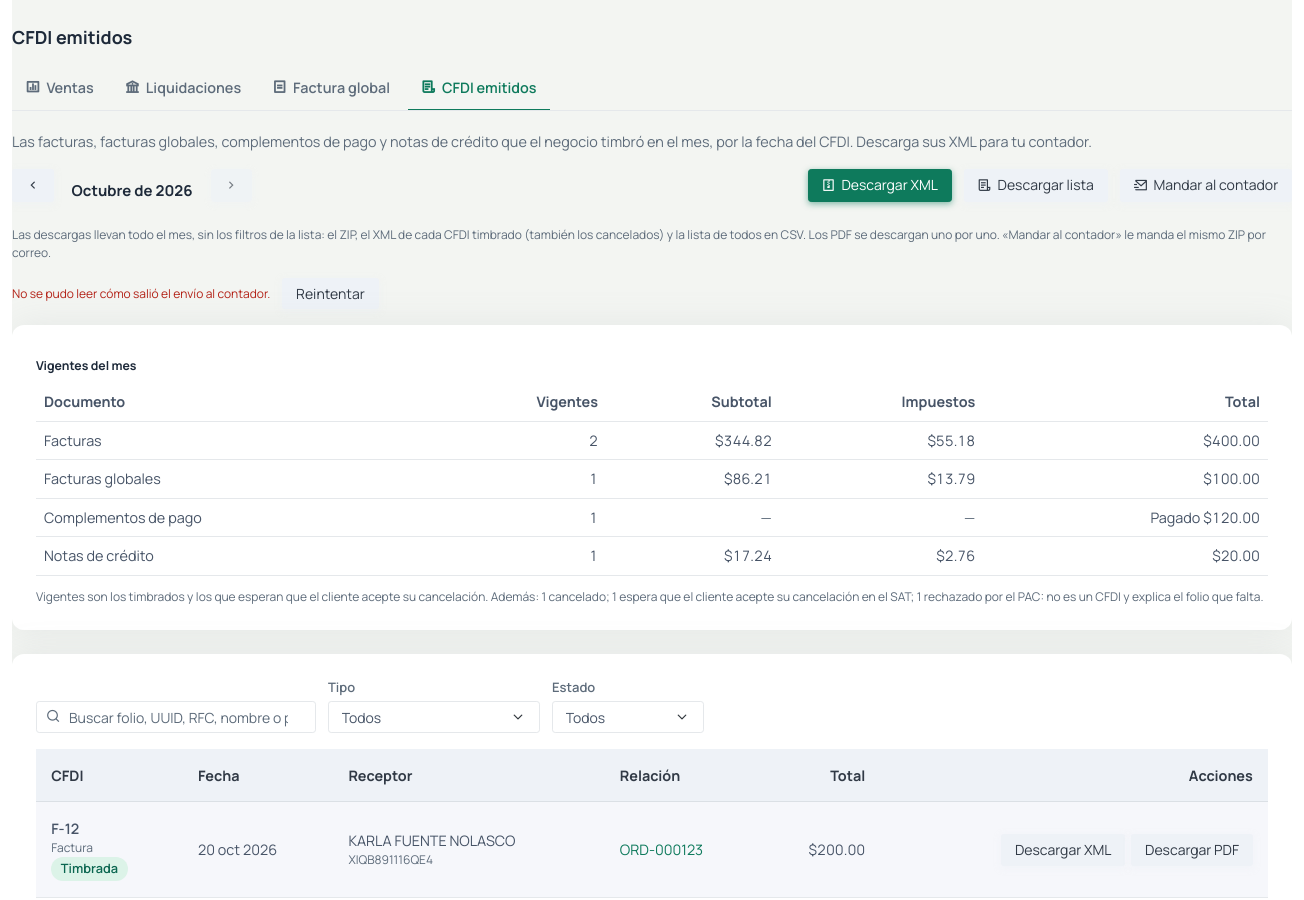
Scenario: IssuedCfdis › says when it could not read how the email to the accountant went, and reads it again
Expected: the text "No se pudo leer cómo salió el envío al contador." is shown, [12,284,270,302]
Step 1. Click the button "Reintentar" → (330, 293), box [282,278,379,309]
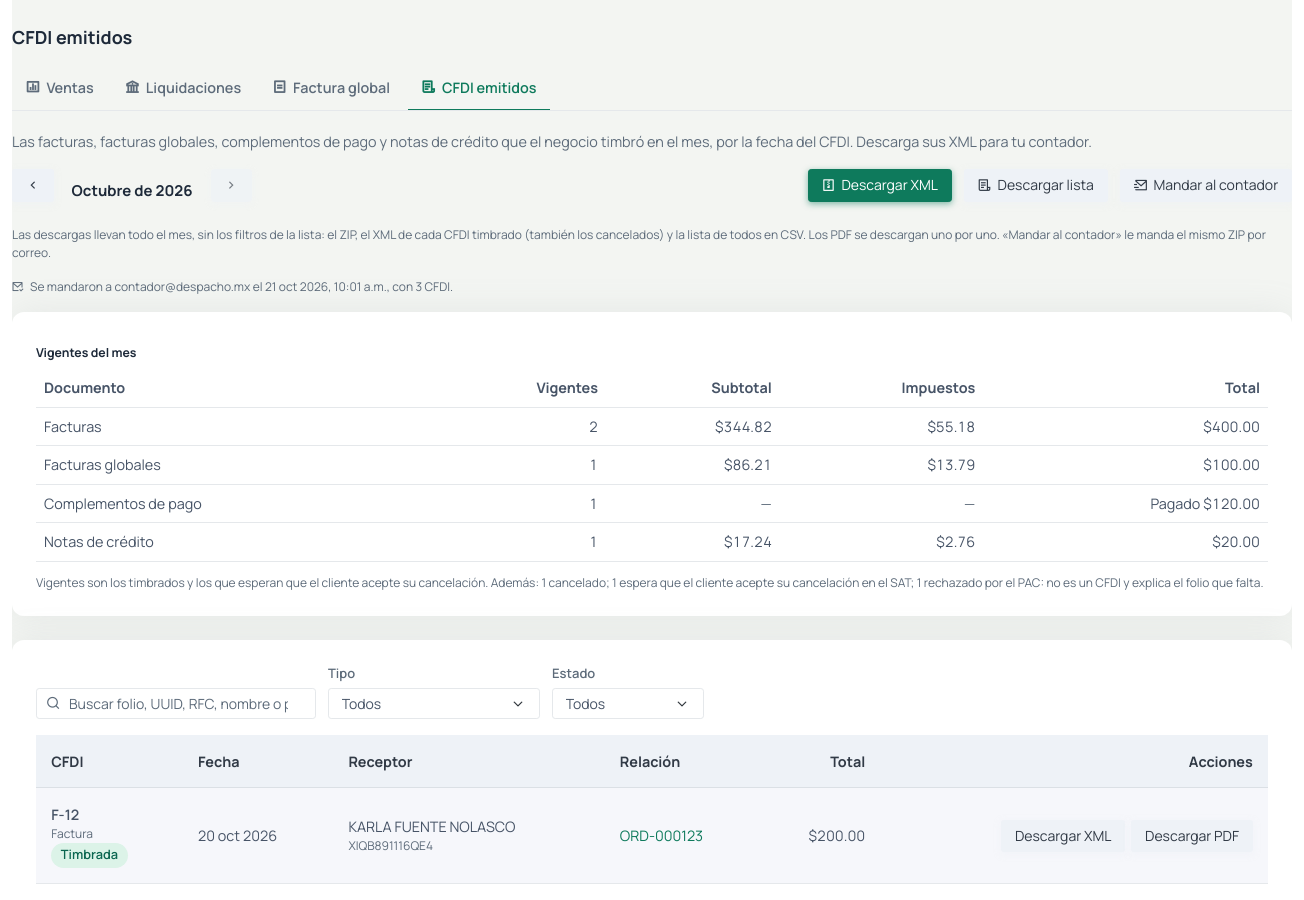
Result: the text "Se mandaron a contador@despacho.mx el 21 oct 2026, 10:01 a.m., con 3 CFDI." is shown at [12,278,453,294]
